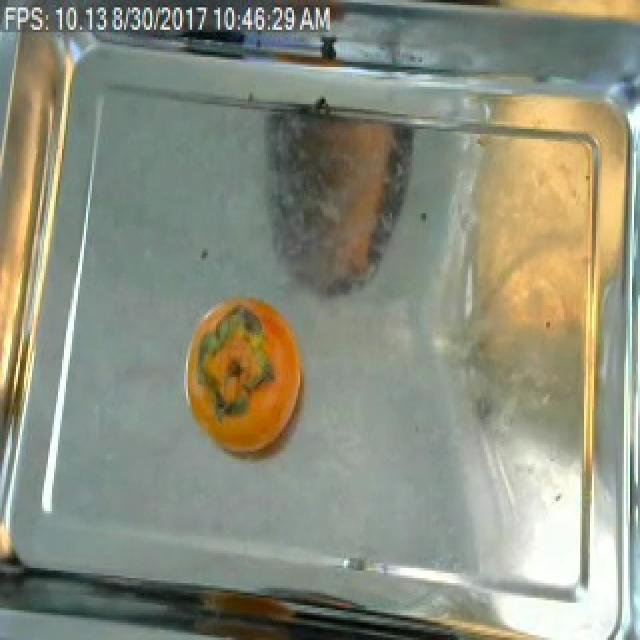Fruit: (448, 116, 616, 464), (180, 290, 308, 462)
